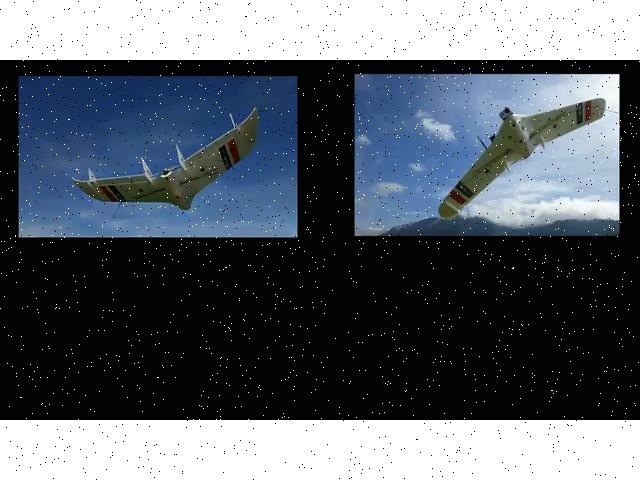Anti-Drone: (54, 100, 280, 224), (417, 85, 609, 223)
